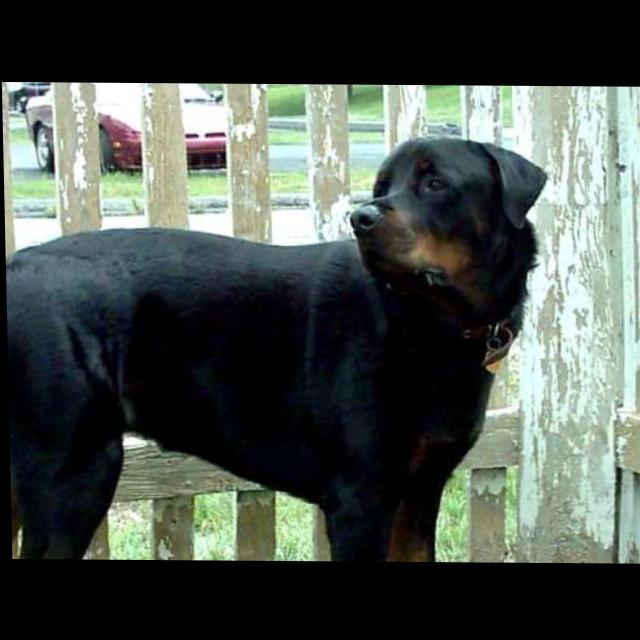rottweiler: (3, 131, 555, 562)
